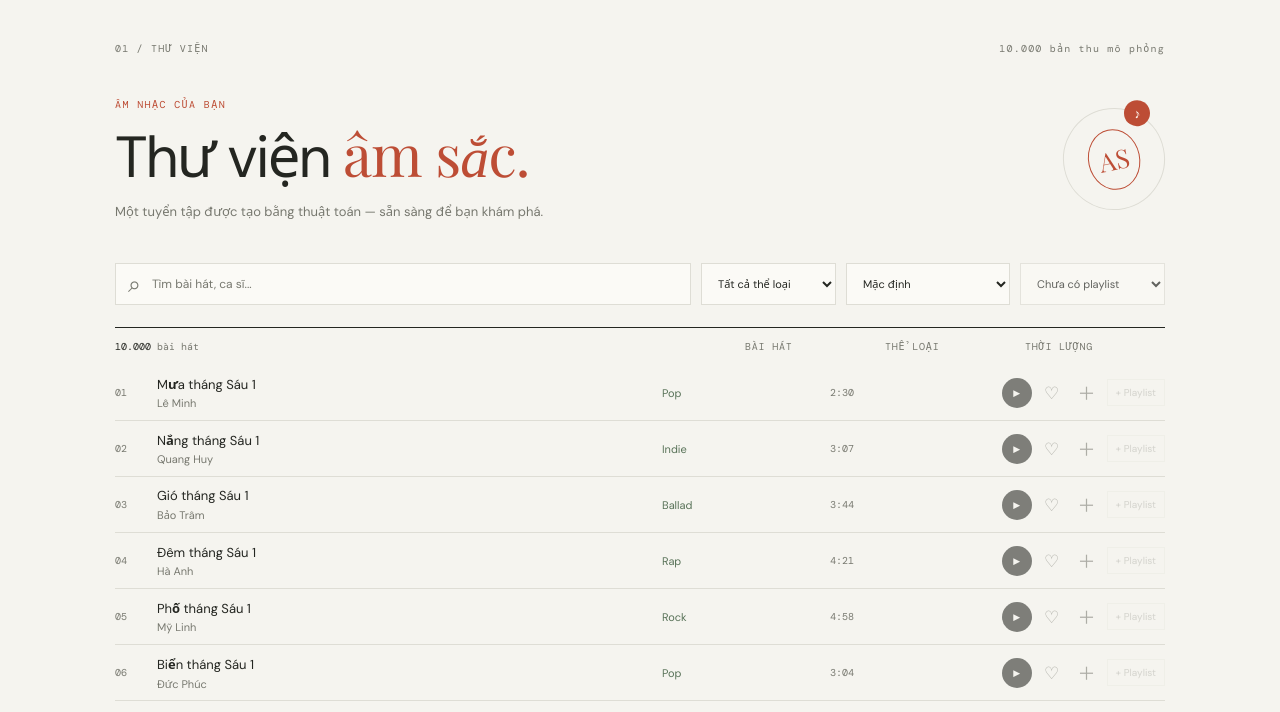
Test: LibraryPage › lọc thể loại và hiển thị trạng thái không có kết quả
Select "Rock" in the 1st dropdown named "Lọc theo thể loại" at (768, 284), box x1=701 y1=263 x2=836 y2=305
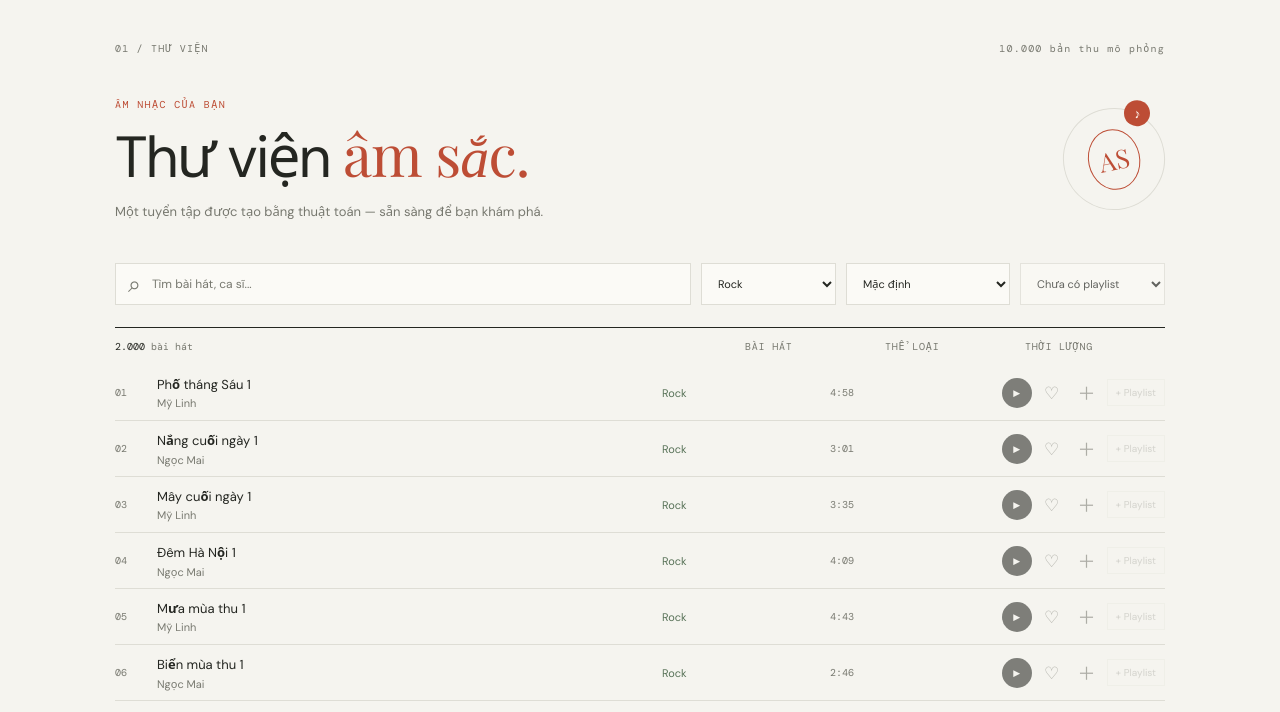
Expected: the text "2.000" is shown, x1=115 y1=340 x2=145 y2=353
Type "không có bài này" into the search field named "Tìm bài hát hoặc ca sĩ" at (414, 284), box x1=150 y1=275 x2=678 y2=293
Wait 300 ms
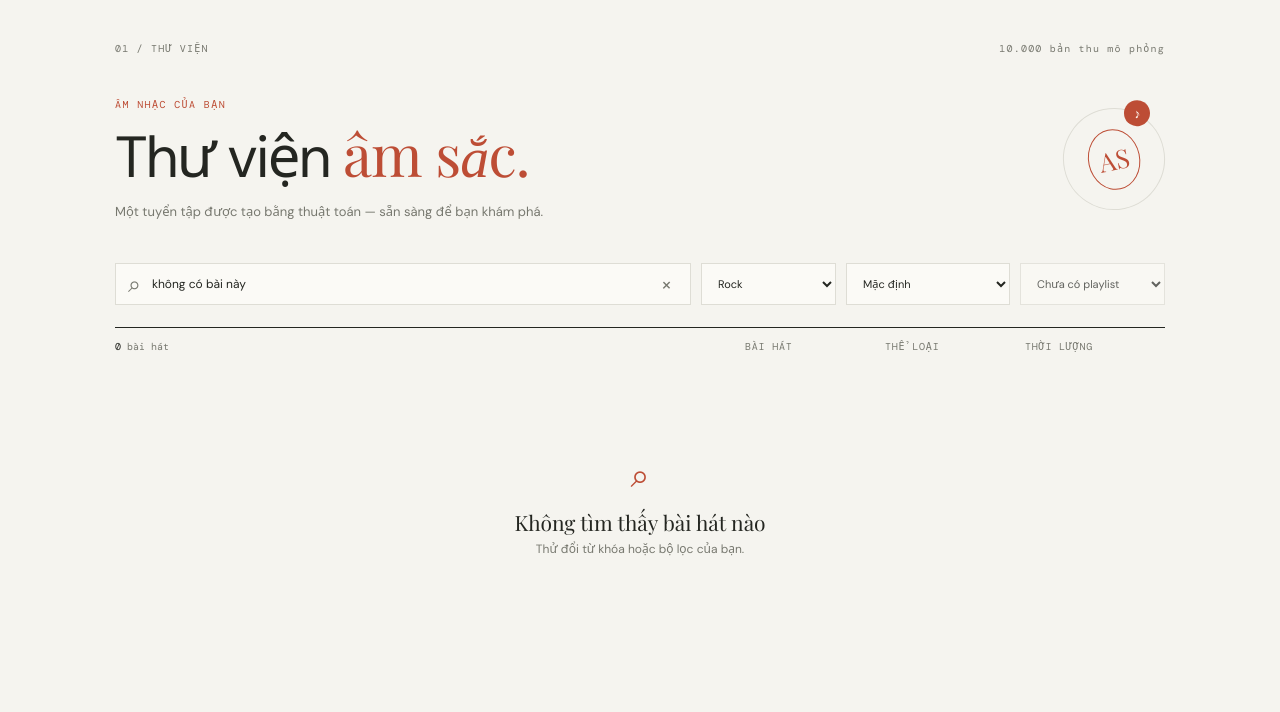
Expected: the text "Không tìm thấy bài hát nào" is shown, x1=514 y1=508 x2=766 y2=536
